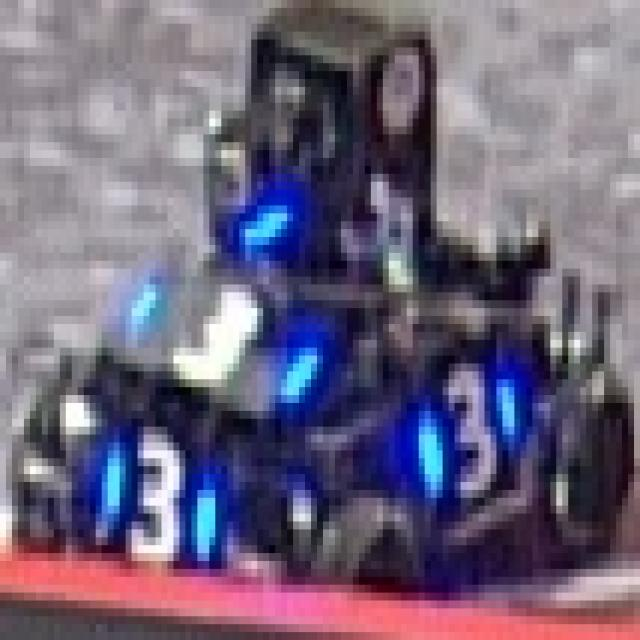B3: (123, 268, 326, 418), (78, 430, 227, 580), (413, 340, 526, 514)
